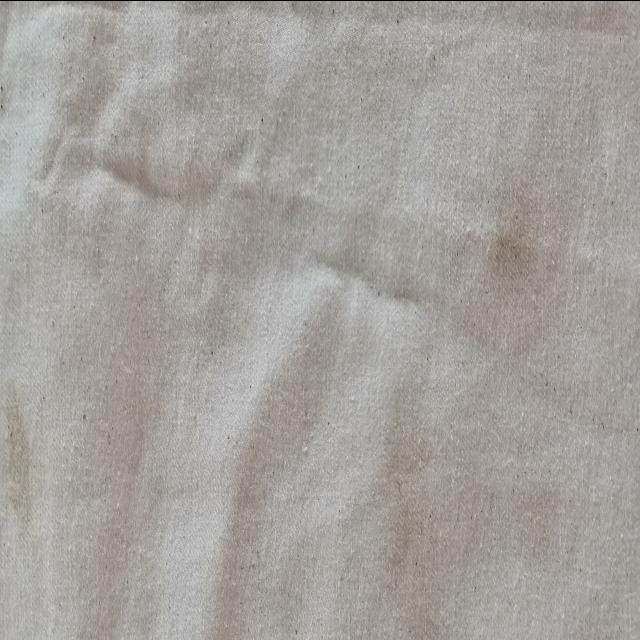taaaches: (359, 316, 456, 640), (474, 179, 566, 343), (0, 380, 45, 588), (504, 476, 596, 573)
